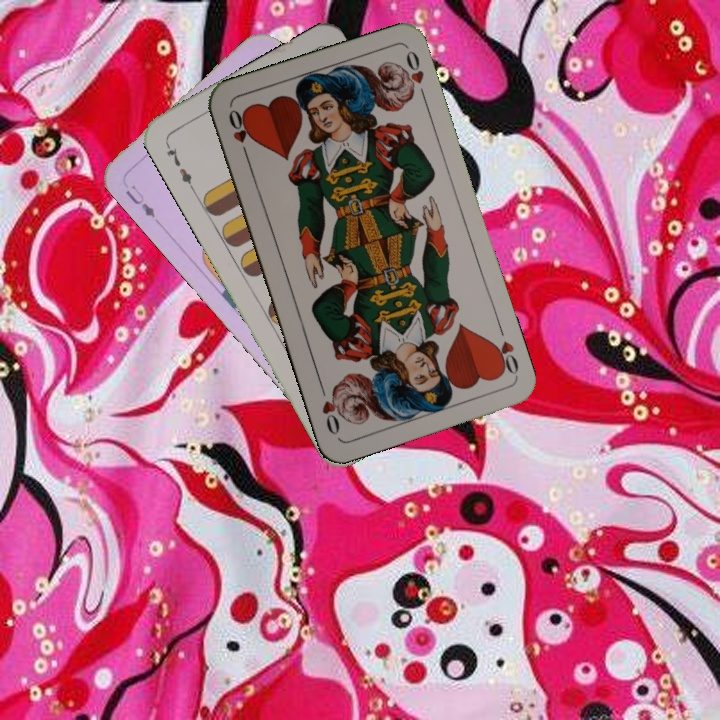E7: (161, 138, 197, 192)
EU: (121, 181, 158, 221)
HO: (224, 105, 254, 162), (487, 337, 521, 379)
